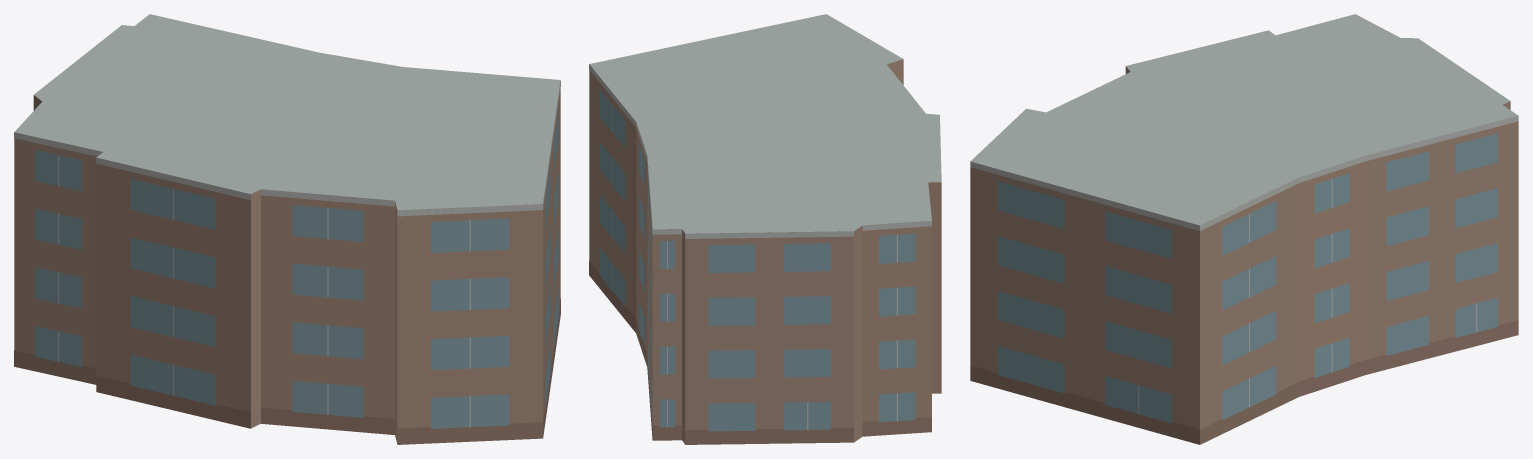
The model's file is survey-upis-32690579.glb.
The picture shows the model from 3 angles, left to right: view 1: azimuth 30°, elevation 25°; view 2: azimuth 150°, elevation 25°; view 3: azimuth 270°, elevation 25°; orthographic projection. The views are drawn at different scales.
Parts seen in each view (by area): view 1: survey-upis-32690579.tmp; view 2: survey-upis-32690579.tmp; view 3: survey-upis-32690579.tmp.
Part boxes in pixels (x1,y1,x2,y2): survey-upis-32690579.tmp: (14,14,560,444); survey-upis-32690579.tmp: (589,14,941,444); survey-upis-32690579.tmp: (970,14,1518,444).
Size of the model in its own units: 19.66 by 9.5 by 21.53.
